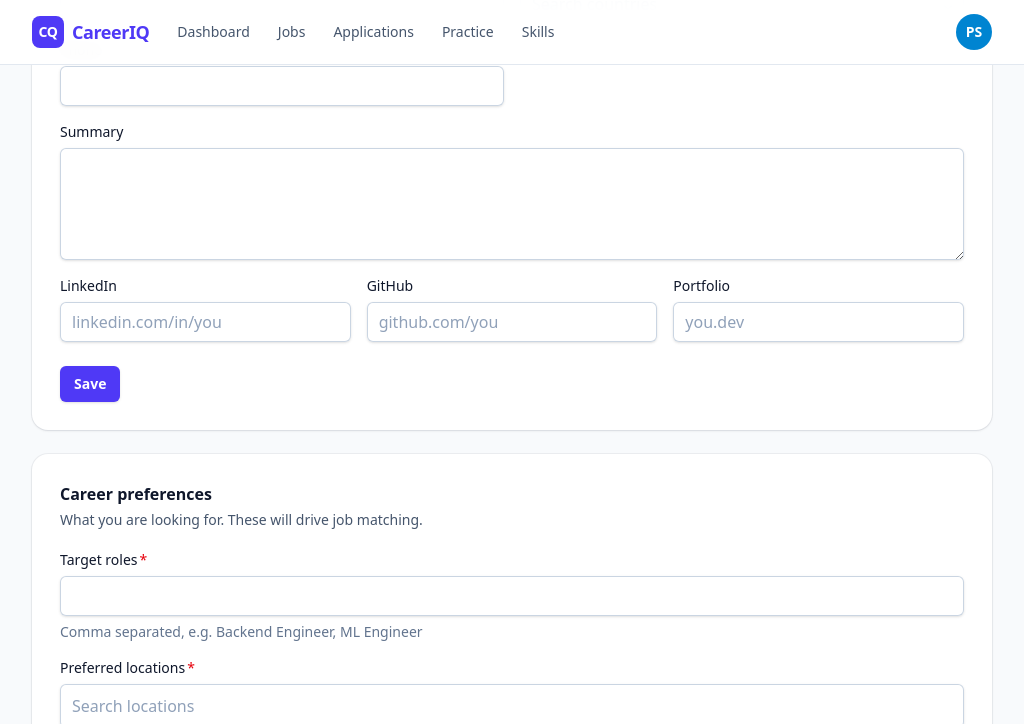
it: ProfilePage › surfaces a server error with its correlation id
(page scrolled)
Click the button "Save" at {"x": 90, "y": 384}, box [60,366,120,402]
(page scrolled)
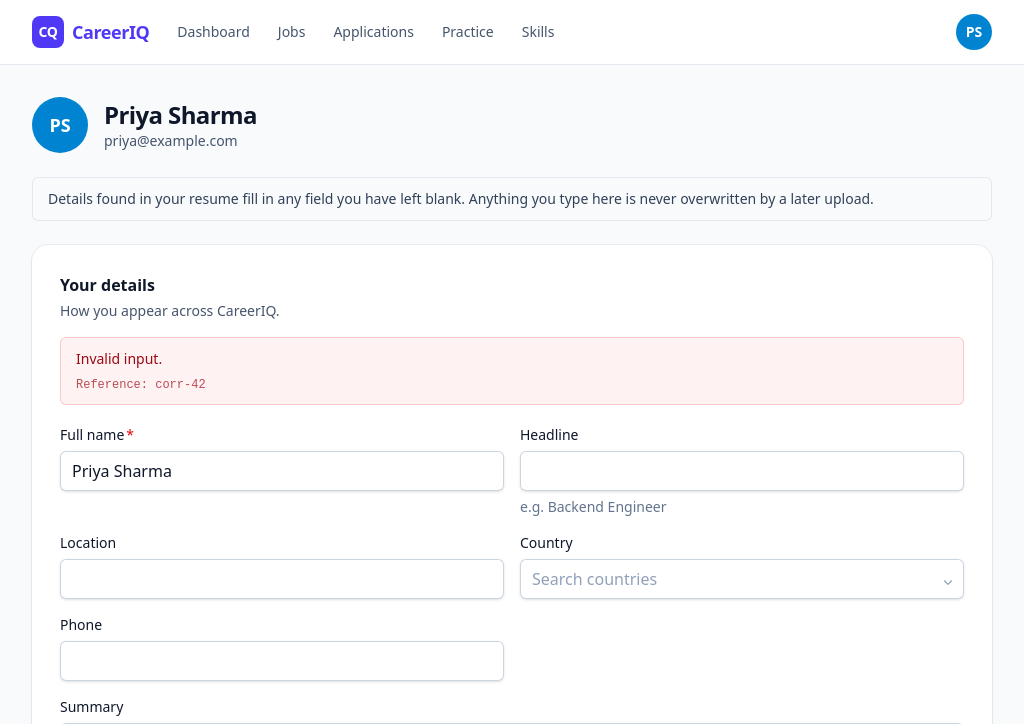
Result: the message "Invalid input. Reference: corr-42" is shown at [60,337,964,405]
